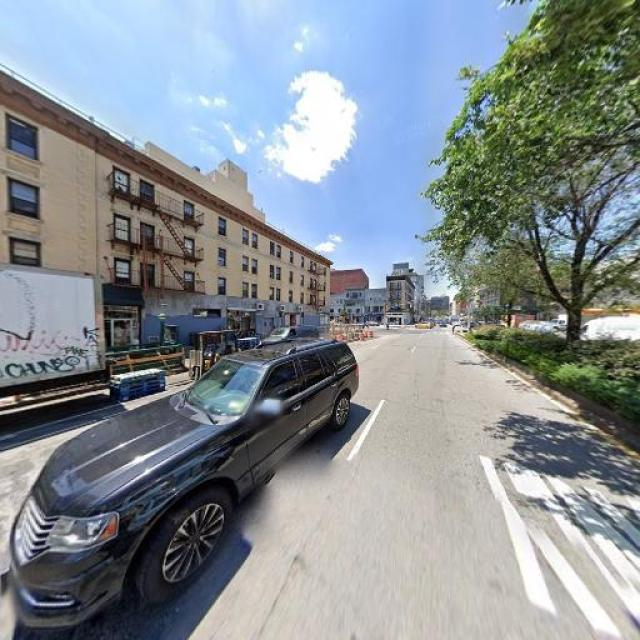Building: (1, 79, 328, 367)
